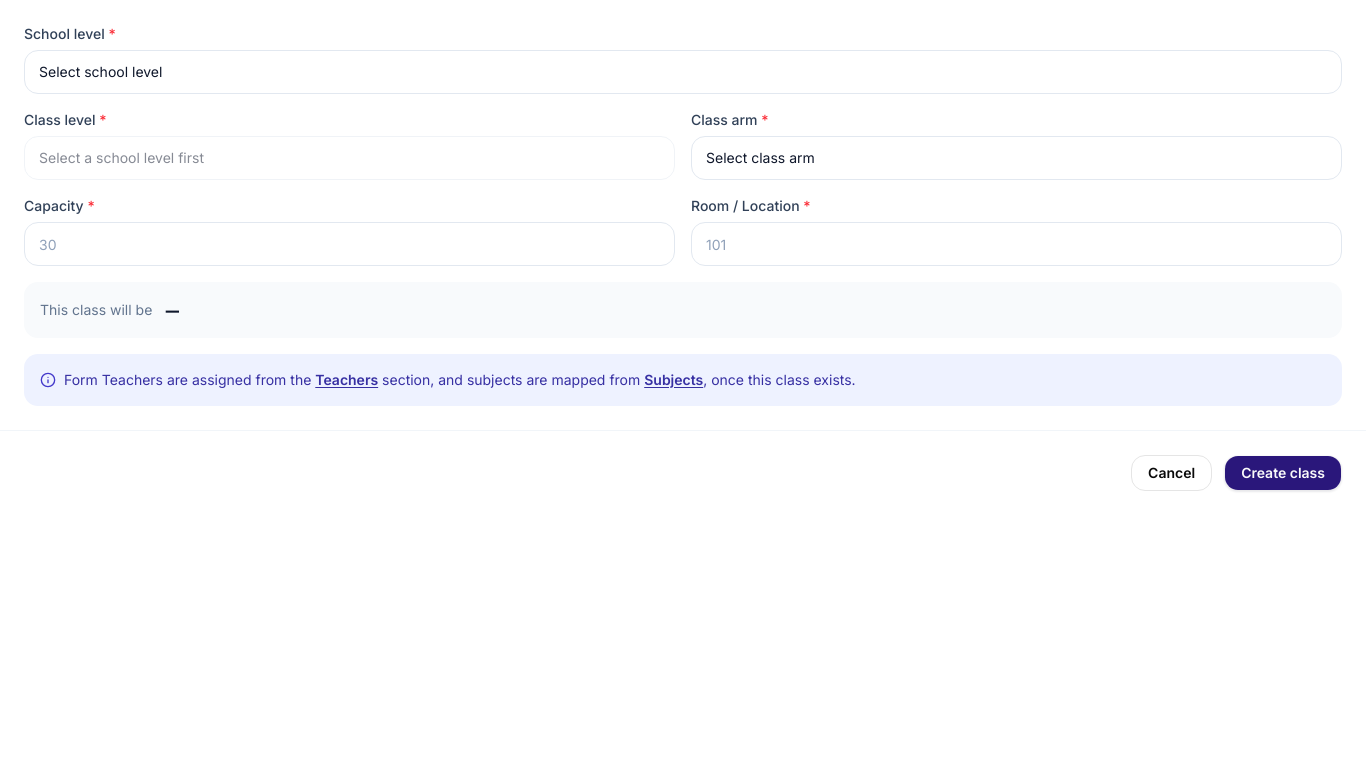
CreateClassForm › required-field validation › shows a validation error for class arm when not selected
Select "Primary" in the dropdown labelled "School level *" at (683, 72), box [24,50,1342,94]
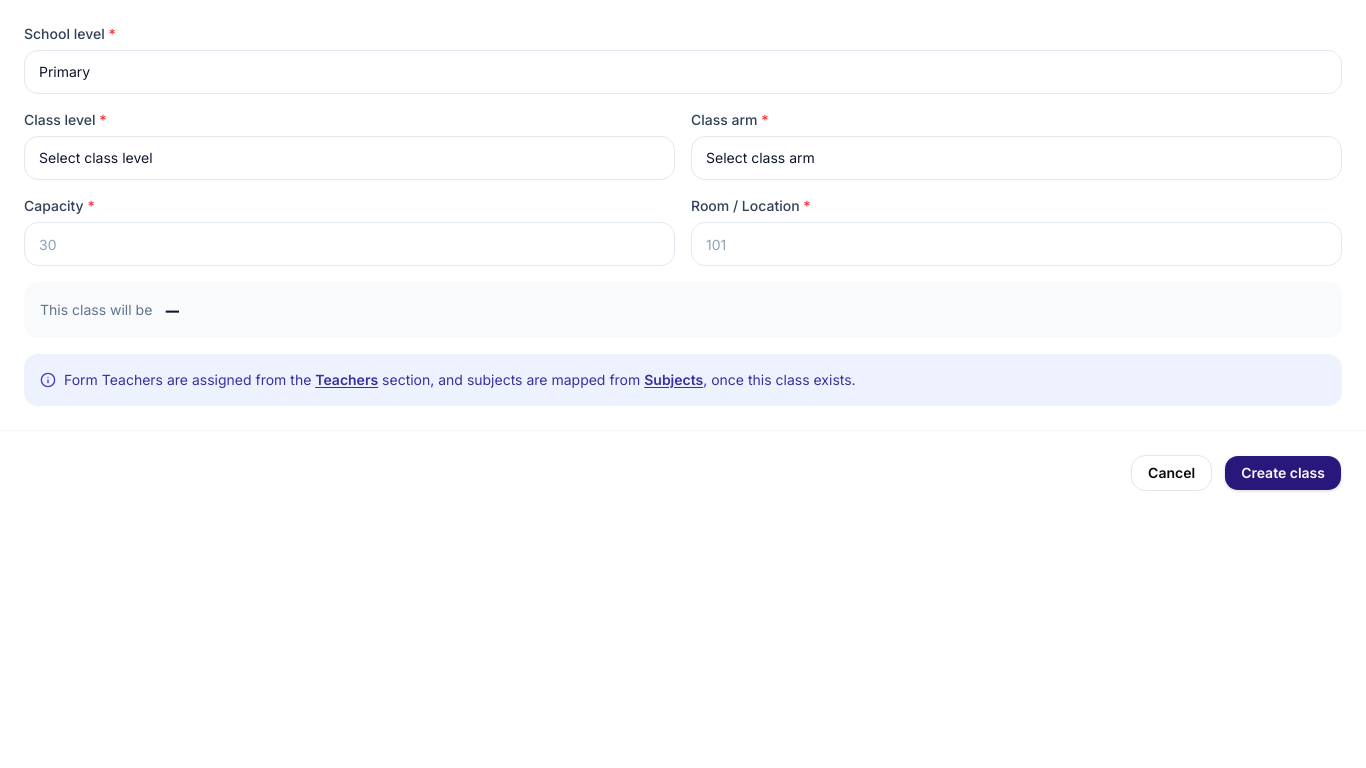
Result: the dropdown labelled "Class level *" is enabled
Select "Primary 1" in the dropdown labelled "Class level *" at (350, 158), box [24,136,675,180]
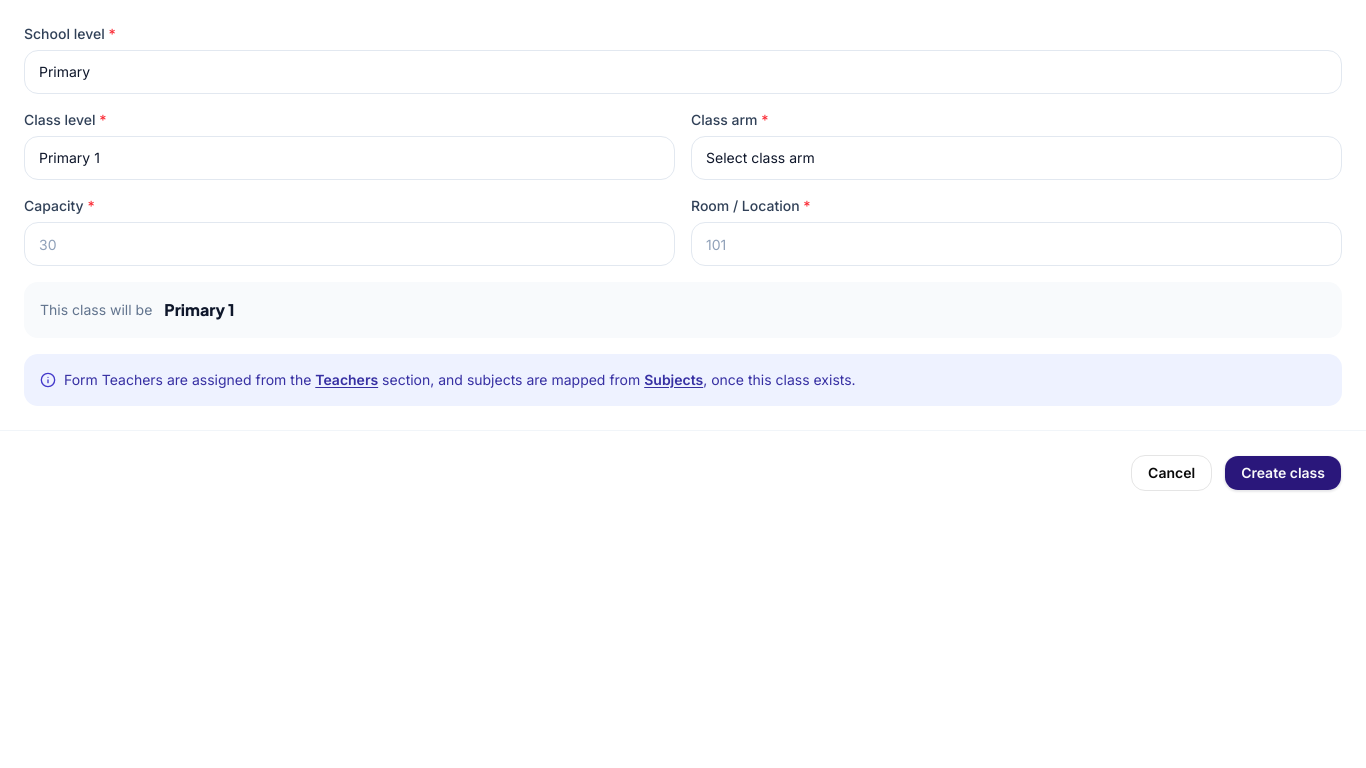
Submit the form
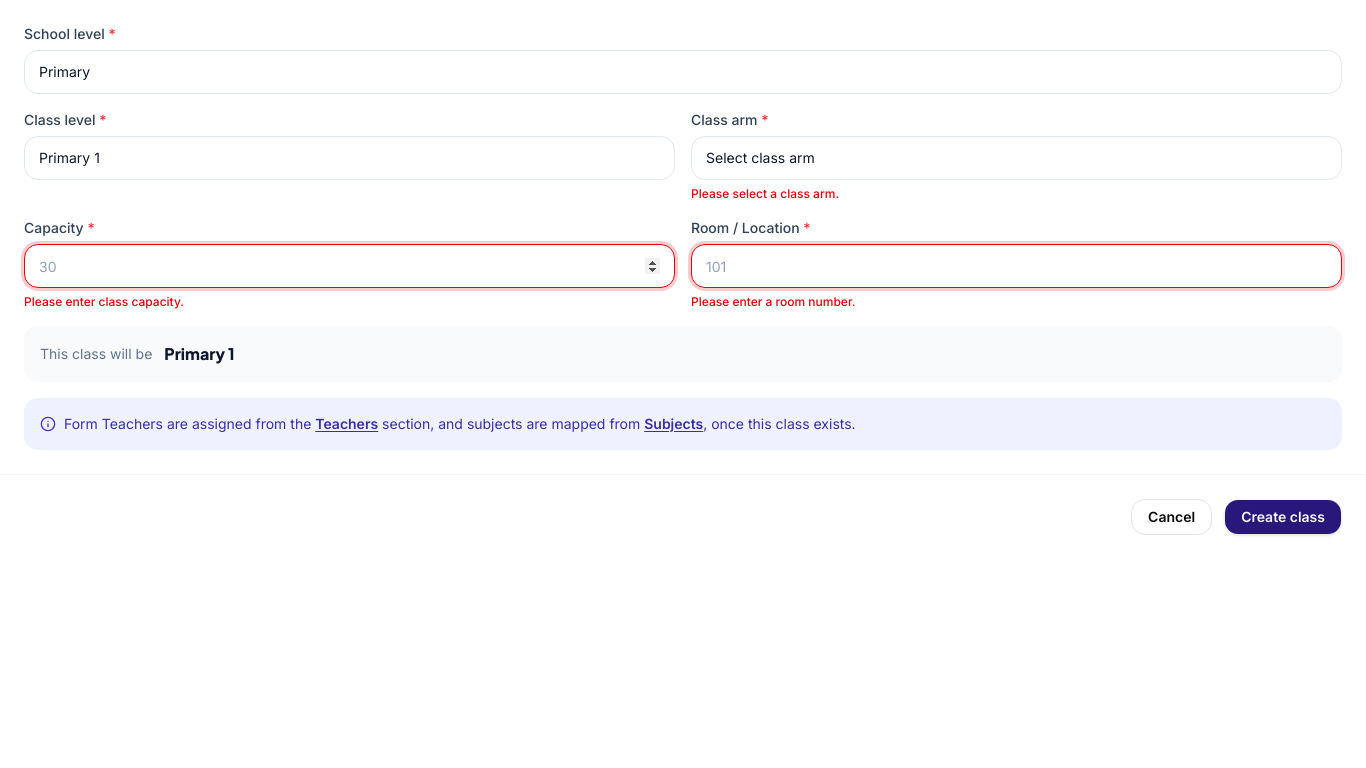
Result: the text "Please select a class arm." is shown at [691,186,839,201]
